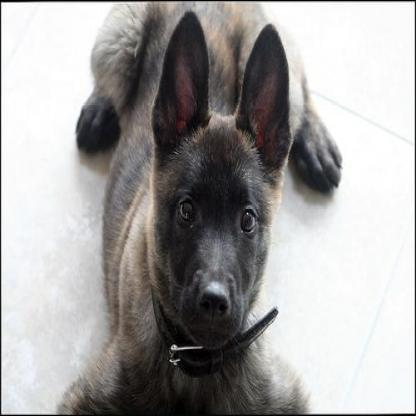german shepherd: (53, 7, 343, 416)
